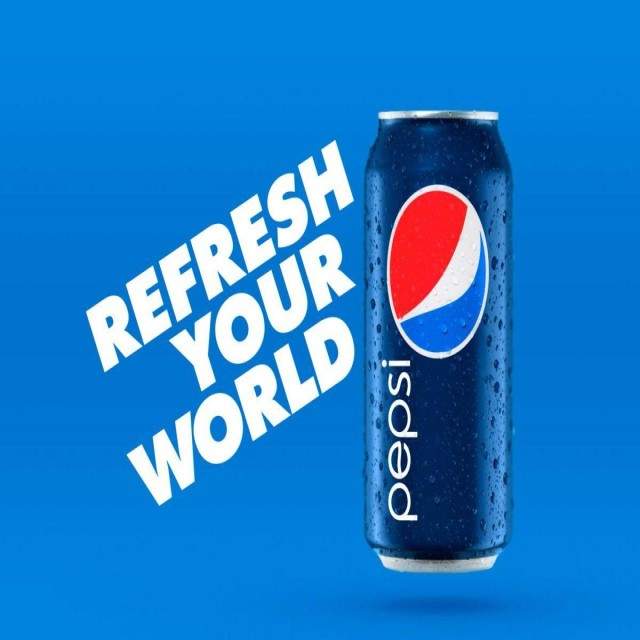pepsi: (382, 180, 494, 364)
